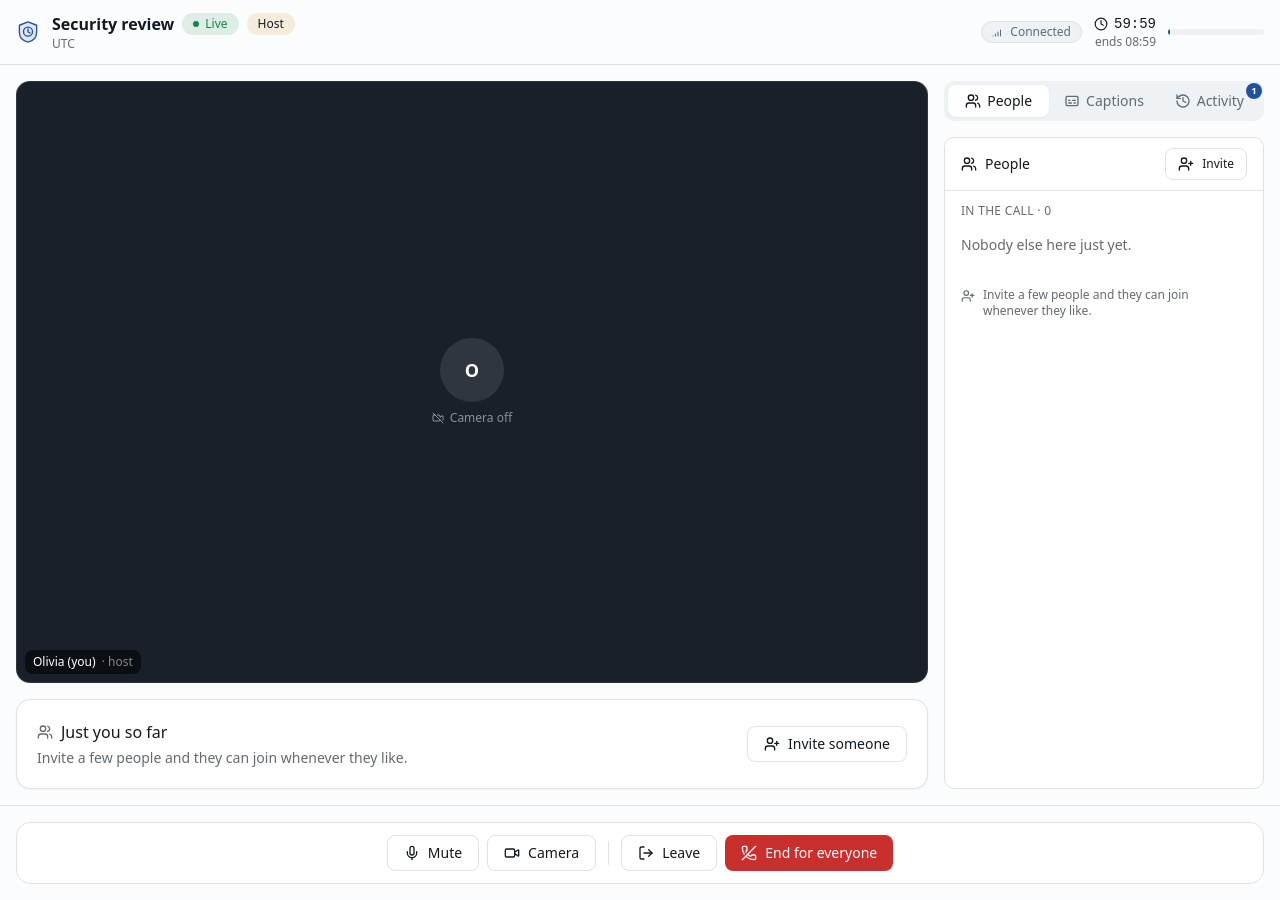
Test: Inviting from inside the call › opens it from the People panel too
Step 1. Click the button "Invite" → (1206, 164), box x1=1165 y1=148 x2=1247 y2=180
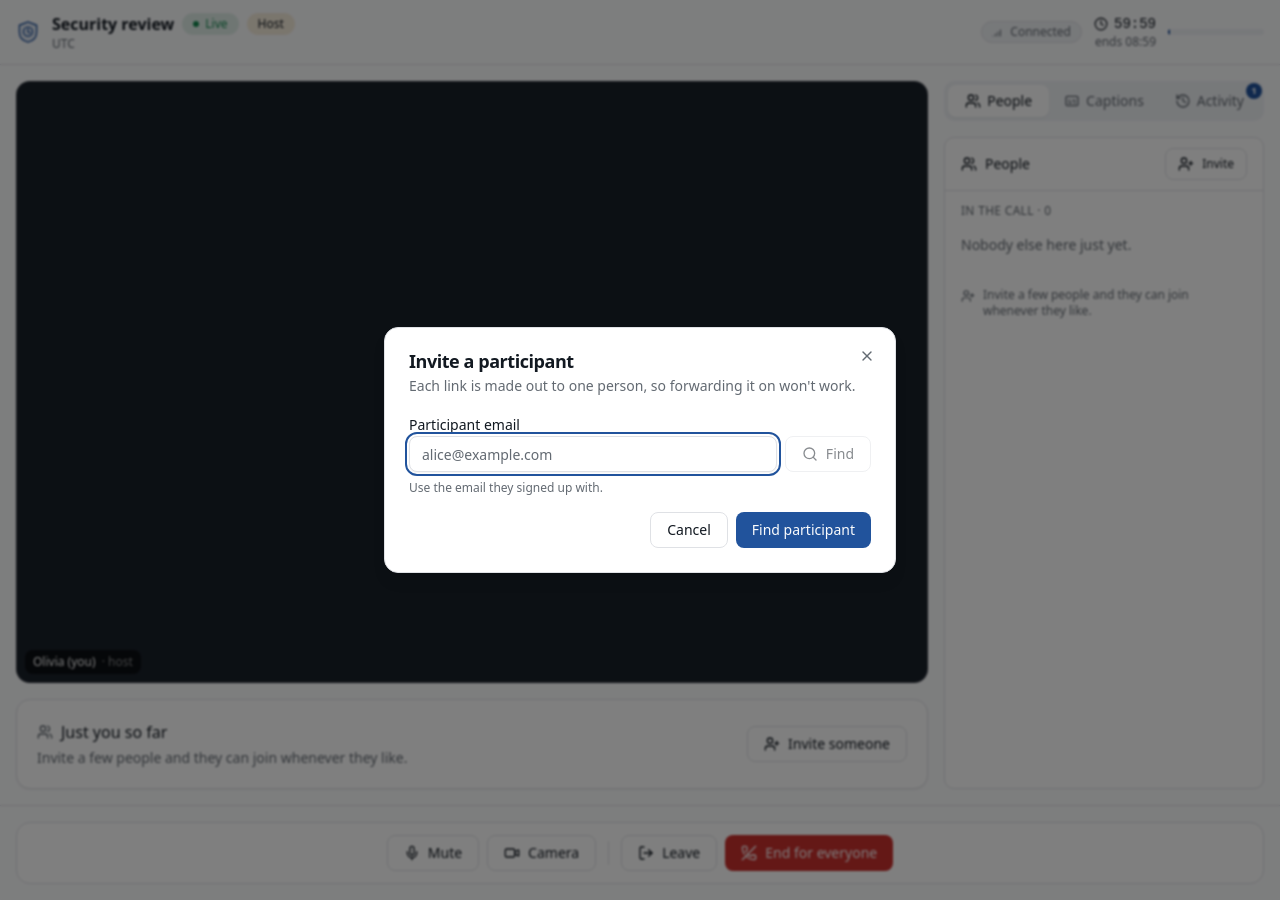
Check: the dialog shows "Invite a participant", box x1=409 y1=349 x2=574 y2=373
